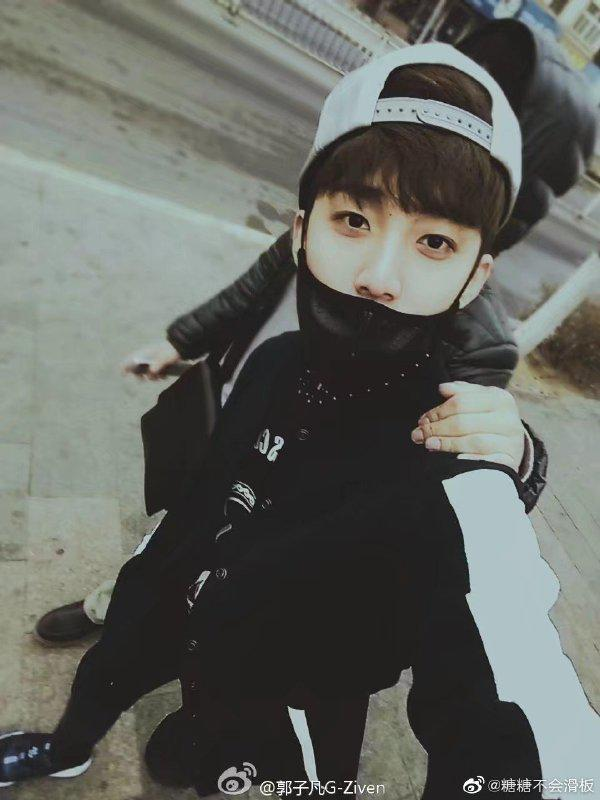WRONG: (298, 171, 480, 391)
